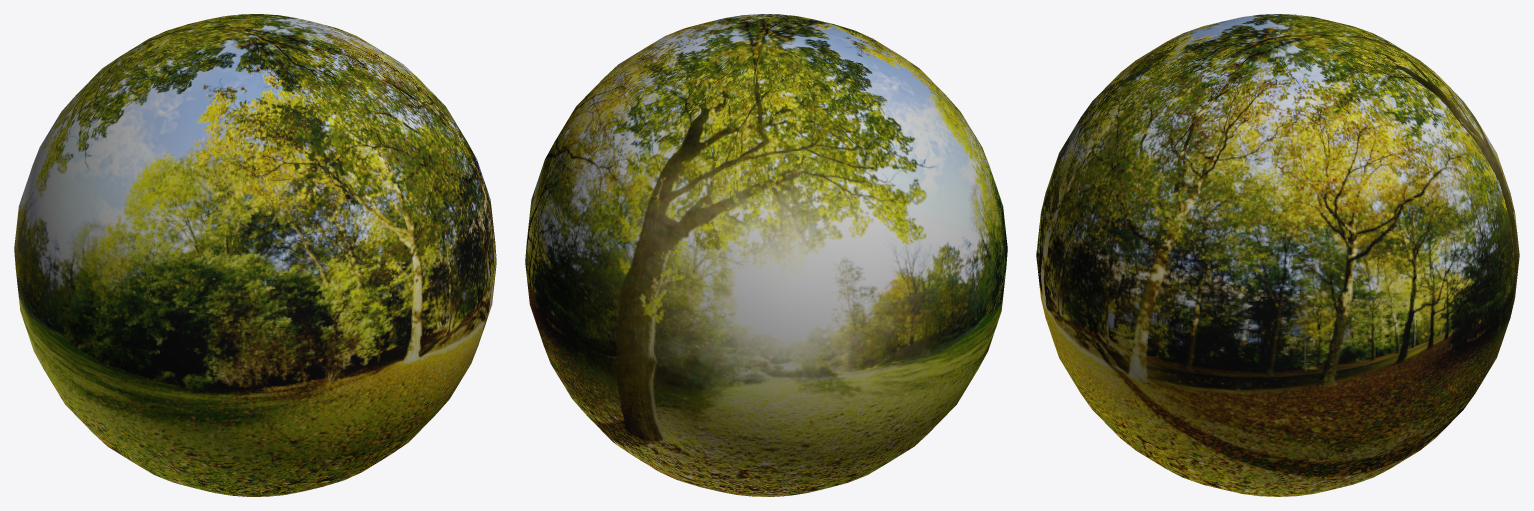
Rendered from WOOD-GALLERY.glb.
3 renders of one model, left to right at view 1: azimuth 30°, elevation 25°; view 2: azimuth 150°, elevation 25°; view 3: azimuth 270°, elevation 25°, orthographic.
Visible parts, largest first — view 1: environment; view 2: environment; view 3: environment.
Part boxes in pixels (x1,y1,x2,y2): environment: (14,14,496,496); environment: (525,14,1007,496); environment: (1036,14,1519,496).
Size of what is drawn, in the model's own units: 74.59 by 74.59 by 74.59.
8 materials, 4 textured.
